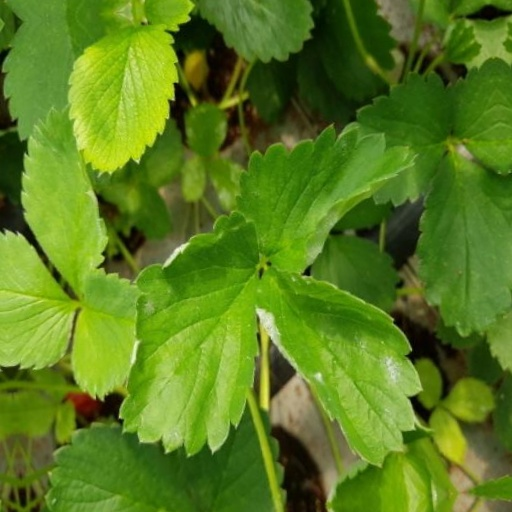Powdery Mildew Leaf: (105, 204, 265, 451), (248, 265, 411, 480), (239, 130, 430, 279)
